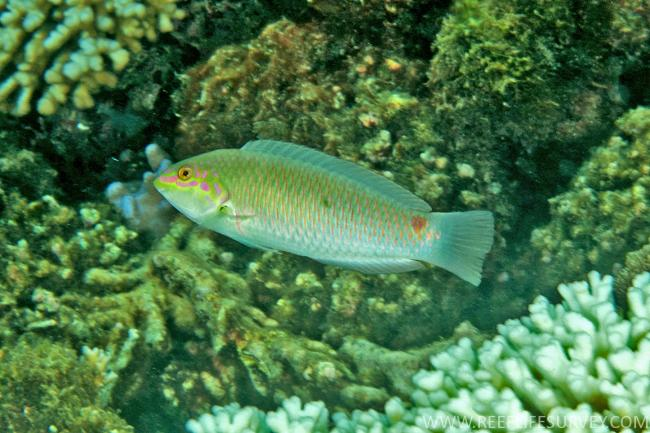fish: (152, 139, 495, 288)
